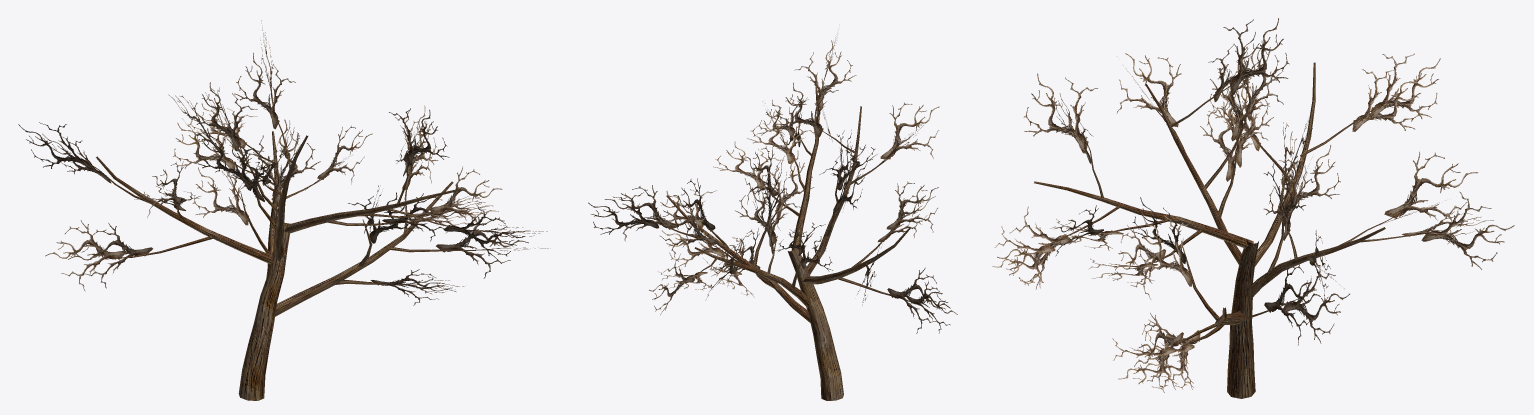
The model's file is deadwood_a_lod0.glb.
The picture shows the model from 3 angles, left to right: view 1: azimuth 30°, elevation 25°; view 2: azimuth 150°, elevation 25°; view 3: azimuth 270°, elevation 25°; orthographic projection. The views are drawn at different scales.
Parts seen in each view (by area): view 1: deadwood_a_lod0; view 2: deadwood_a_lod0; view 3: deadwood_a_lod0.
Part boxes in pixels (x1,y1,x2,y2): deadwood_a_lod0: [18, 20, 550, 400]; deadwood_a_lod0: [588, 37, 957, 400]; deadwood_a_lod0: [992, 18, 1514, 398].
Size of the model in its own units: 8.59 by 7.04 by 8.6.
Materials: 2 (2 with a texture image).
